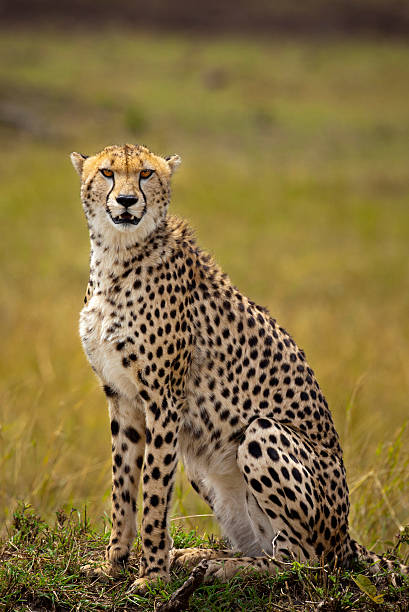cheetah: (43, 126, 194, 253)
